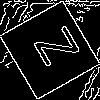Z: (24, 25, 81, 74)
